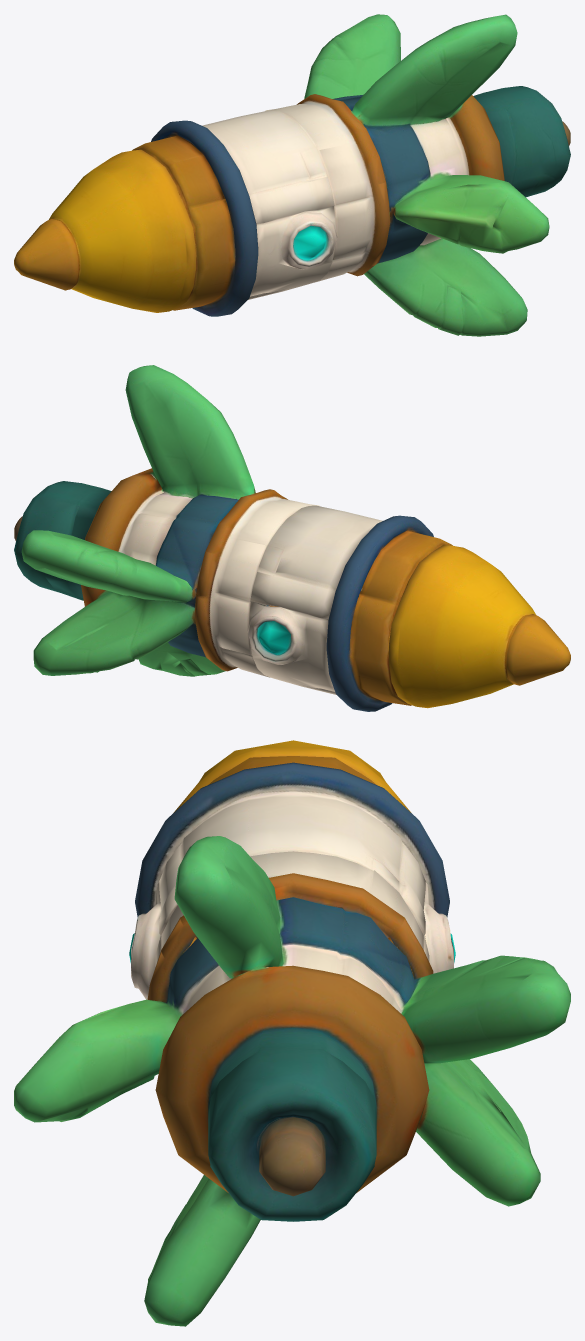
Rendered from missile.glb.
3 views of the same model, one above another, from view 1: azimuth 30°, elevation 25°; view 2: azimuth 150°, elevation 25°; view 3: azimuth 270°, elevation 25° (orthographic). The views are drawn at different scales.
Visible parts, largest first — view 1: tripo_node_bc343e20-7a85-4b39-bd8c-0b5f579f457c; view 2: tripo_node_bc343e20-7a85-4b39-bd8c-0b5f579f457c; view 3: tripo_node_bc343e20-7a85-4b39-bd8c-0b5f579f457c.
Part boxes in pixels (x1,y1,x2,y2): tripo_node_bc343e20-7a85-4b39-bd8c-0b5f579f457c: [14, 14, 570, 336]; tripo_node_bc343e20-7a85-4b39-bd8c-0b5f579f457c: [14, 365, 570, 711]; tripo_node_bc343e20-7a85-4b39-bd8c-0b5f579f457c: [14, 740, 570, 1326].
Size of the model in its own units: 0.9768 by 0.5219 by 0.5639.
1 material, 1 textured.
